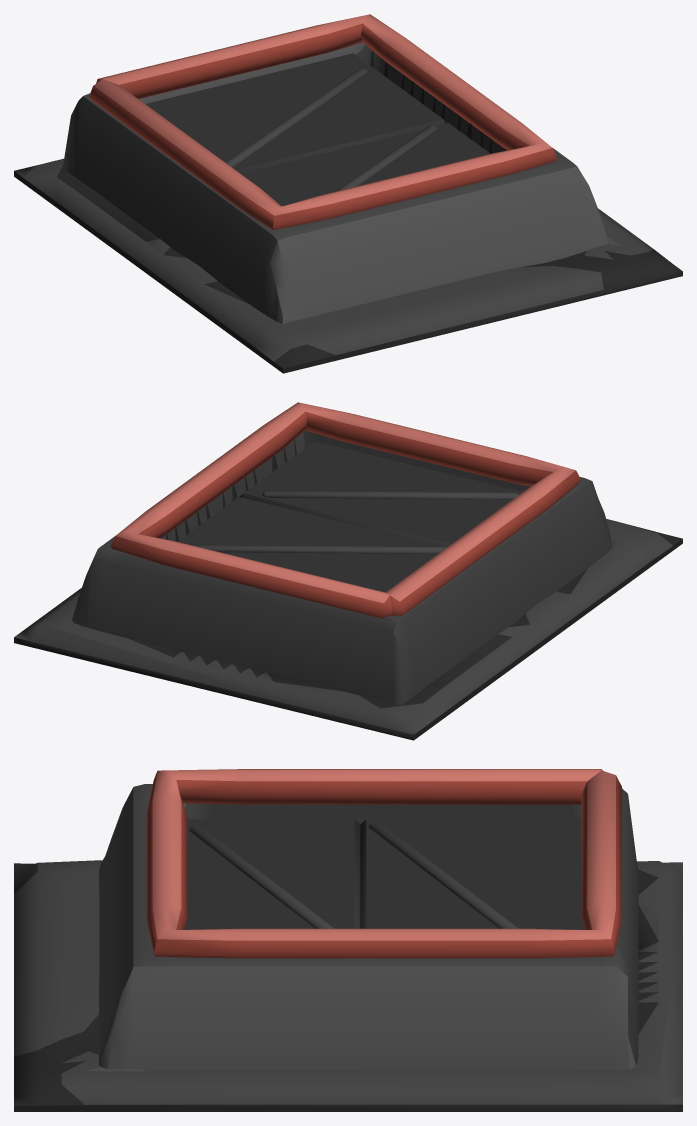
File: hatch_bunker_18.glb
3 renders of one model, top to bottom at view 1: azimuth 30°, elevation 25°; view 2: azimuth 150°, elevation 25°; view 3: azimuth 270°, elevation 25°, orthographic. The views are drawn at different scales.
Parts seen in each view (by area): view 1: housing, ground, frame, lid_n, lid_s, lid_n_rib, lid_s_rib; view 2: housing, frame, ground, lid_s, lid_n, lid_s_rib, lid_n_rib; view 3: housing, ground, frame, lid_n, lid_s, lid_n_rib, lid_s_rib.
Part boxes in pixels (x1,y1,x2,y2): housing: [62, 42, 608, 323]; ground: [14, 158, 682, 373]; frame: [89, 14, 557, 230]; lid_n: [145, 53, 447, 173]; lid_s: [241, 123, 490, 206]; lid_n_rib: [225, 68, 368, 167]; lid_s_rib: [335, 125, 438, 191]; housing: [72, 430, 615, 705]; frame: [110, 402, 580, 618]; ground: [14, 519, 682, 740]; lid_s: [239, 441, 522, 546]; lid_n: [177, 497, 443, 592]; lid_s_rib: [261, 490, 518, 499]; lid_n_rib: [190, 544, 447, 554]; housing: [98, 784, 638, 1070]; ground: [14, 860, 682, 1111]; frame: [146, 769, 621, 958]; lid_n: [360, 819, 585, 929]; lid_s: [184, 819, 360, 929]; lid_n_rib: [368, 821, 518, 928]; lid_s_rib: [189, 825, 334, 928].
Size of the model in its own units: 24 by 10.36 by 28.
